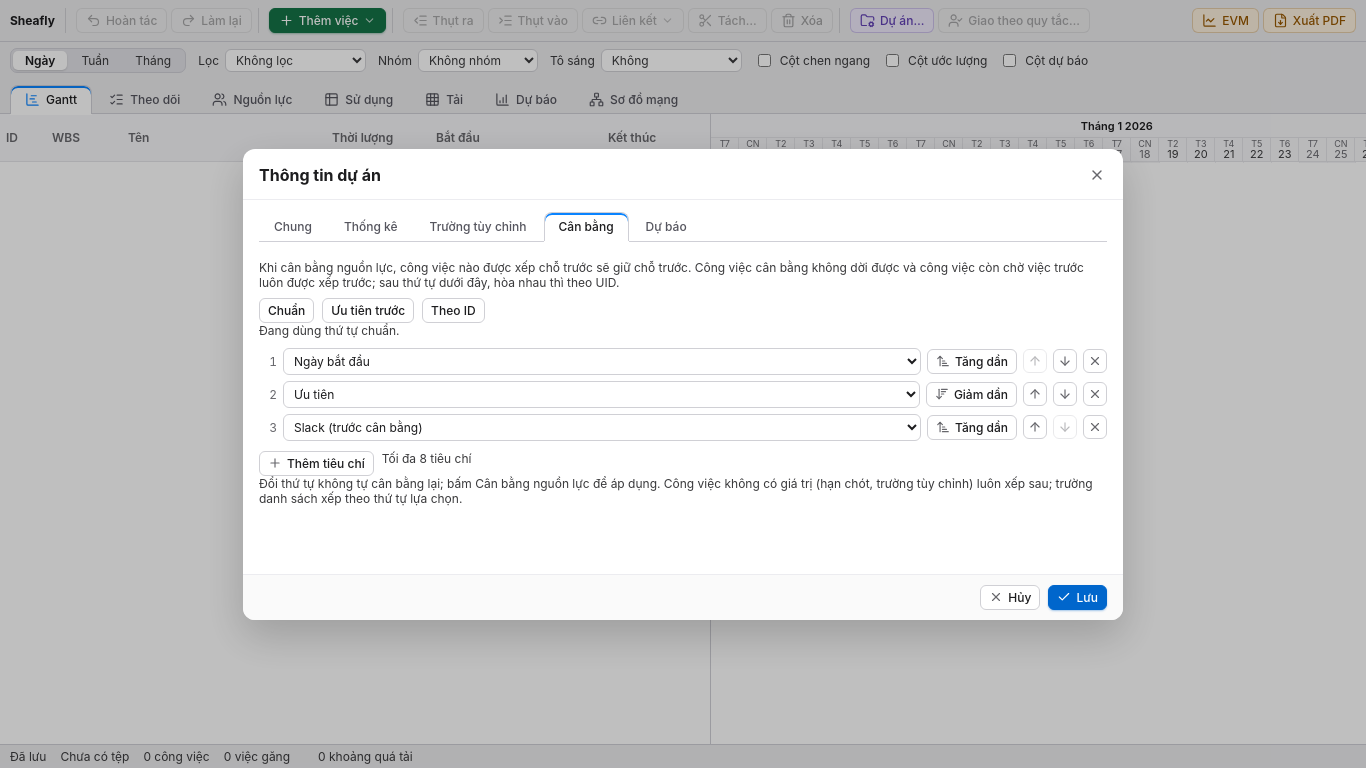
Root › opens the leveling order from the Project menu and sets it
The image size is (1366, 768).
Expected: the button "Hoàn tác" is shown, x1=76 y1=8 x2=167 y2=33
Click the button "Theo ID" at (453, 310), box x1=422 y1=298 x2=485 y2=322
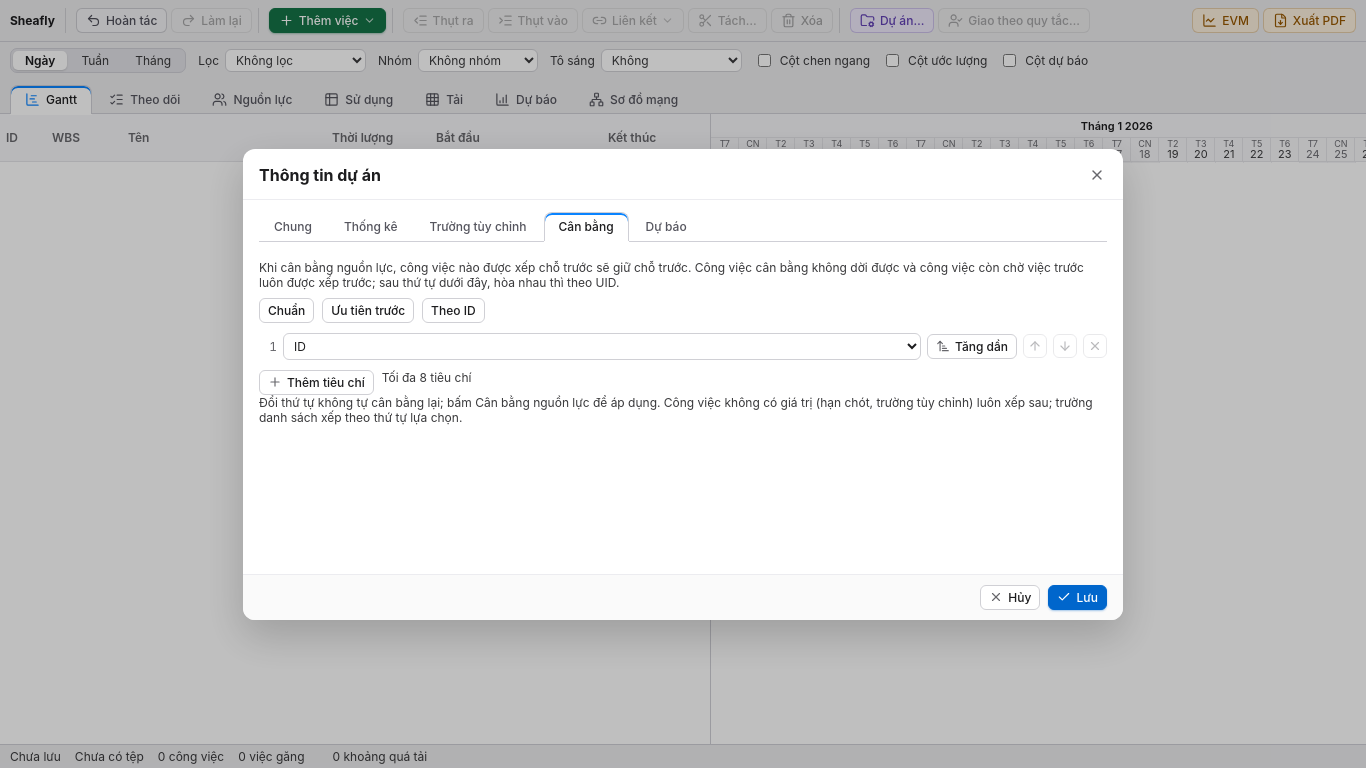
Expected: the dropdown named "Tiêu chí 1" shows "ID", x1=283 y1=332 x2=921 y2=360
